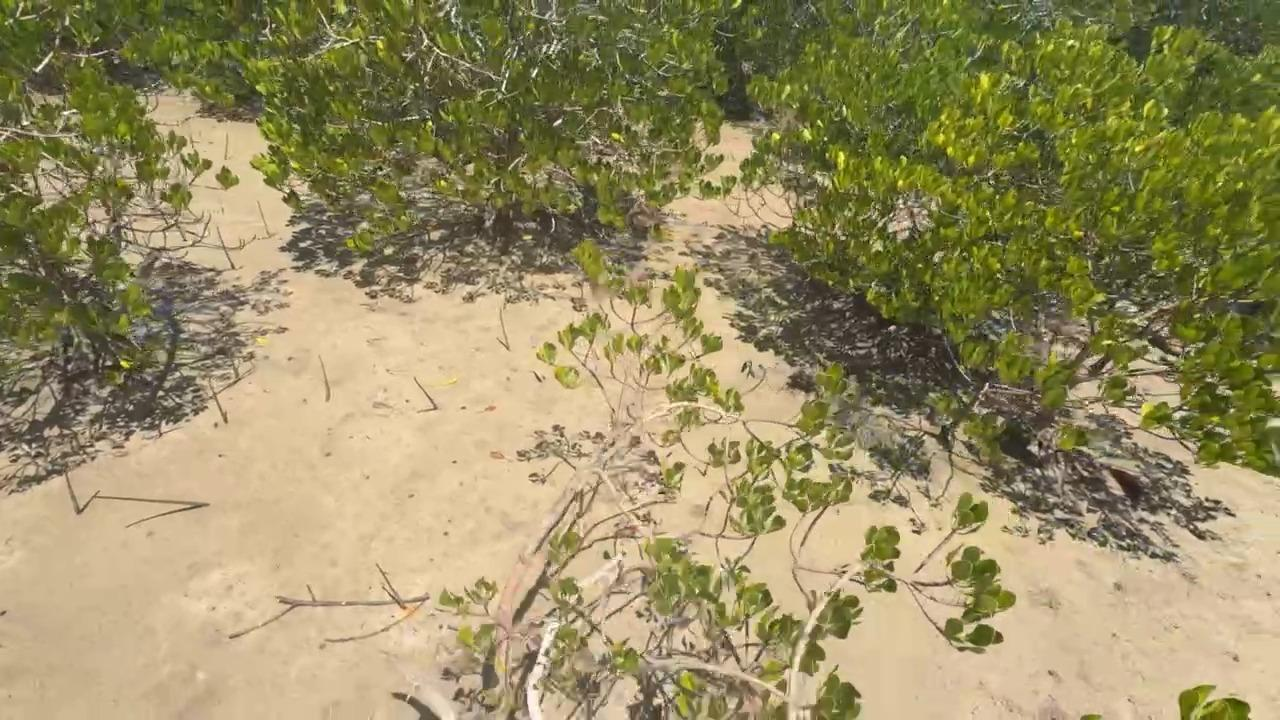Tree: (94, 494, 209, 508), (375, 562, 407, 609), (208, 376, 228, 422), (63, 465, 82, 511), (412, 376, 437, 410), (217, 228, 235, 269), (497, 307, 511, 351), (319, 355, 330, 402), (257, 200, 270, 237), (225, 133, 229, 160)
